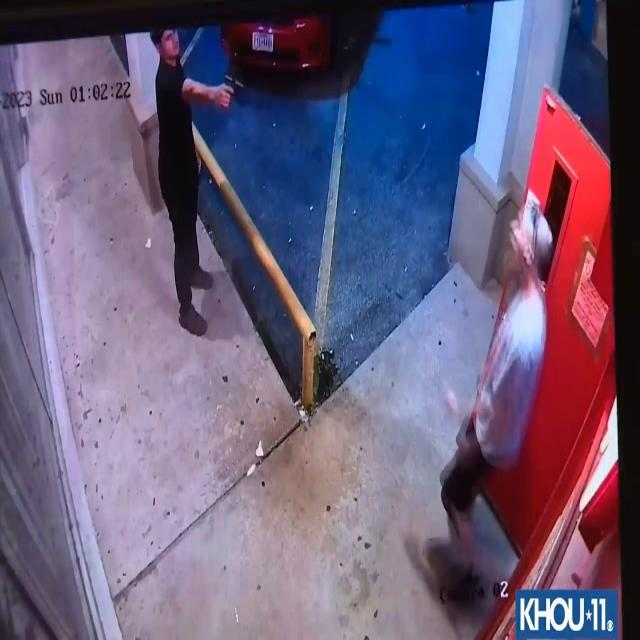penembakan: (148, 22, 254, 340)
